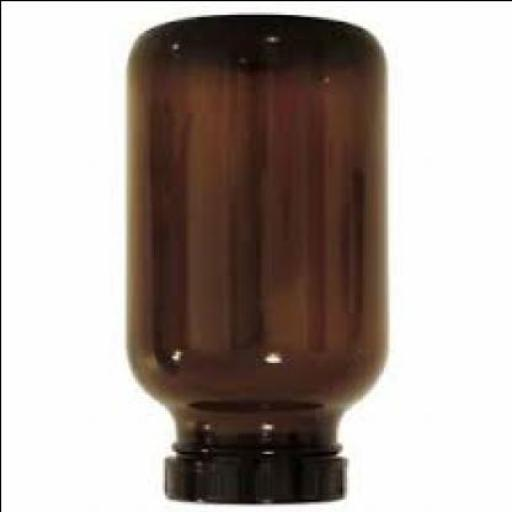glass: (123, 17, 382, 457)
metal: (160, 451, 342, 505)
